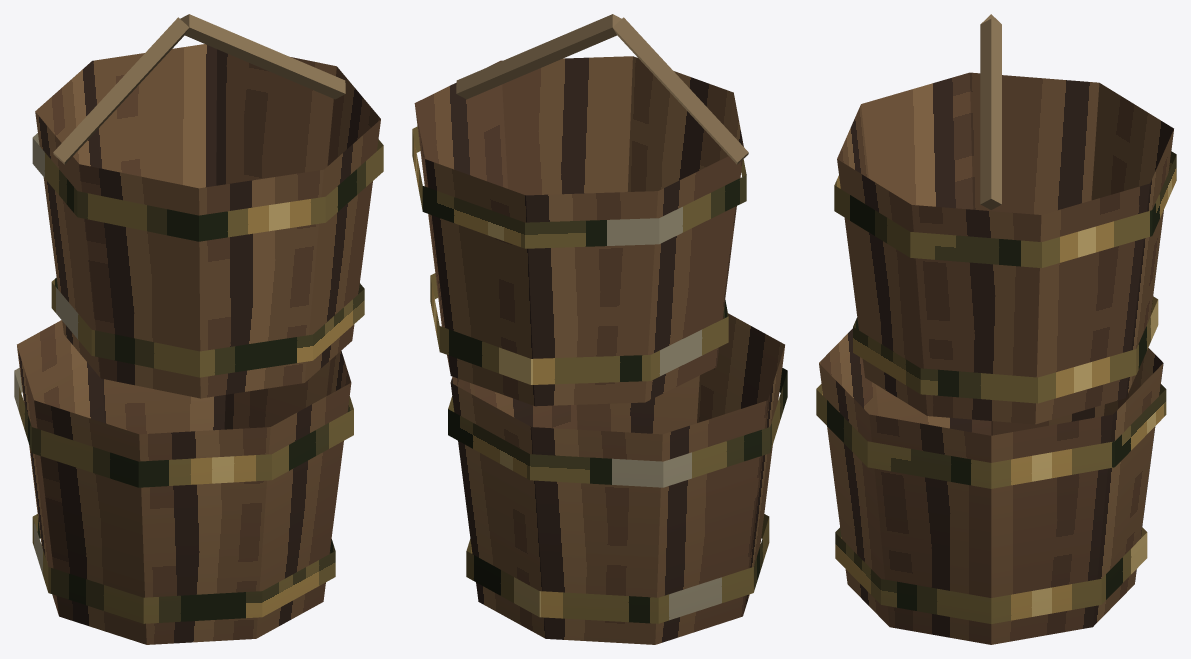
The model's file is JP_Prop_Buckets_A.glb.
3 renders of one model, left to right at view 1: azimuth 30°, elevation 25°; view 2: azimuth 150°, elevation 25°; view 3: azimuth 270°, elevation 25°, orthographic.
Parts seen in each view (by area): view 1: JP_Prop_Buckets_A; view 2: JP_Prop_Buckets_A; view 3: JP_Prop_Buckets_A.
Boxes of the visible parts, left/top/right/bottom form: JP_Prop_Buckets_A: left=14, top=14, right=383, bottom=644; JP_Prop_Buckets_A: left=412, top=14, right=787, bottom=644; JP_Prop_Buckets_A: left=816, top=14, right=1176, bottom=644.
Size of the model in its own units: 0.5319 by 0.8726 by 0.5019.
3 materials, 3 textured.
